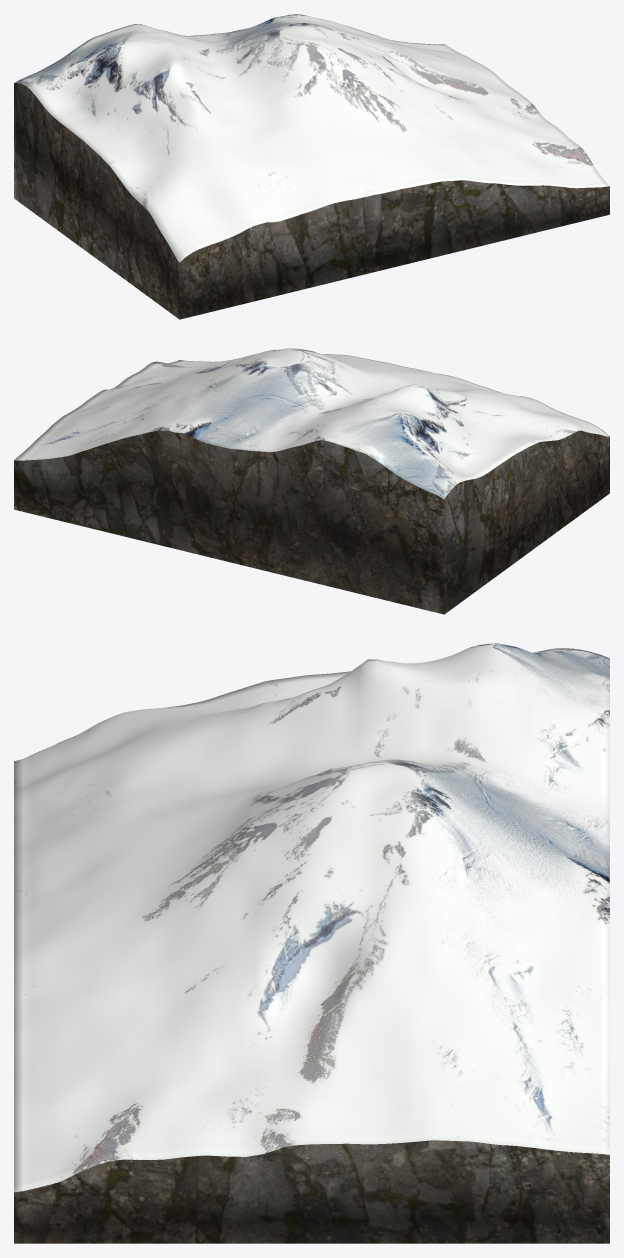
The model's file is Elbrus.glb.
3 renders of one model, top to bottom at view 1: azimuth 30°, elevation 25°; view 2: azimuth 150°, elevation 25°; view 3: azimuth 270°, elevation 25°, orthographic. The views are drawn at different scales.
Parts seen in each view (by area): view 1: EXPORT_GOOGLE_SAT_WM; view 2: EXPORT_GOOGLE_SAT_WM; view 3: EXPORT_GOOGLE_SAT_WM.
Part boxes in pixels (bbox=[...]): EXPORT_GOOGLE_SAT_WM: bbox=[14, 14, 609, 319]; EXPORT_GOOGLE_SAT_WM: bbox=[14, 348, 609, 614]; EXPORT_GOOGLE_SAT_WM: bbox=[14, 643, 609, 1243].
Bounding box in the file's own units: 13.76 × 4.86 × 9.17.
Materials: 2 (2 with a texture image).
